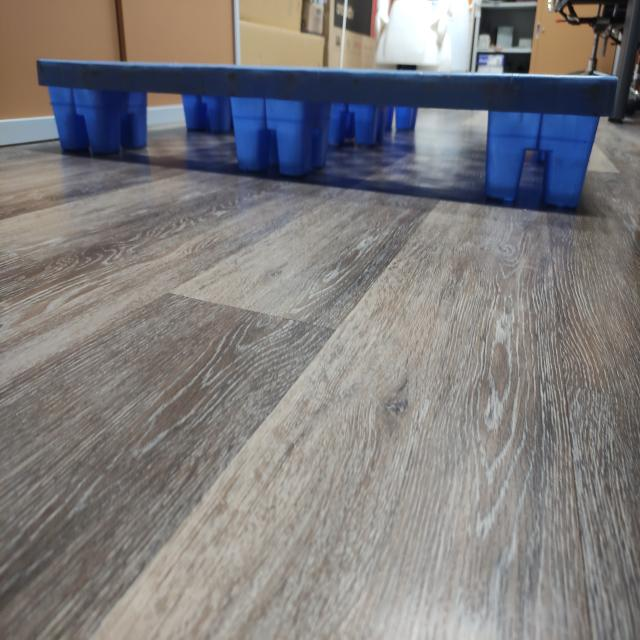block: (490, 110, 594, 206), (233, 98, 306, 178), (43, 80, 110, 162), (180, 92, 229, 140), (330, 103, 380, 150)
front: (30, 55, 618, 211)
